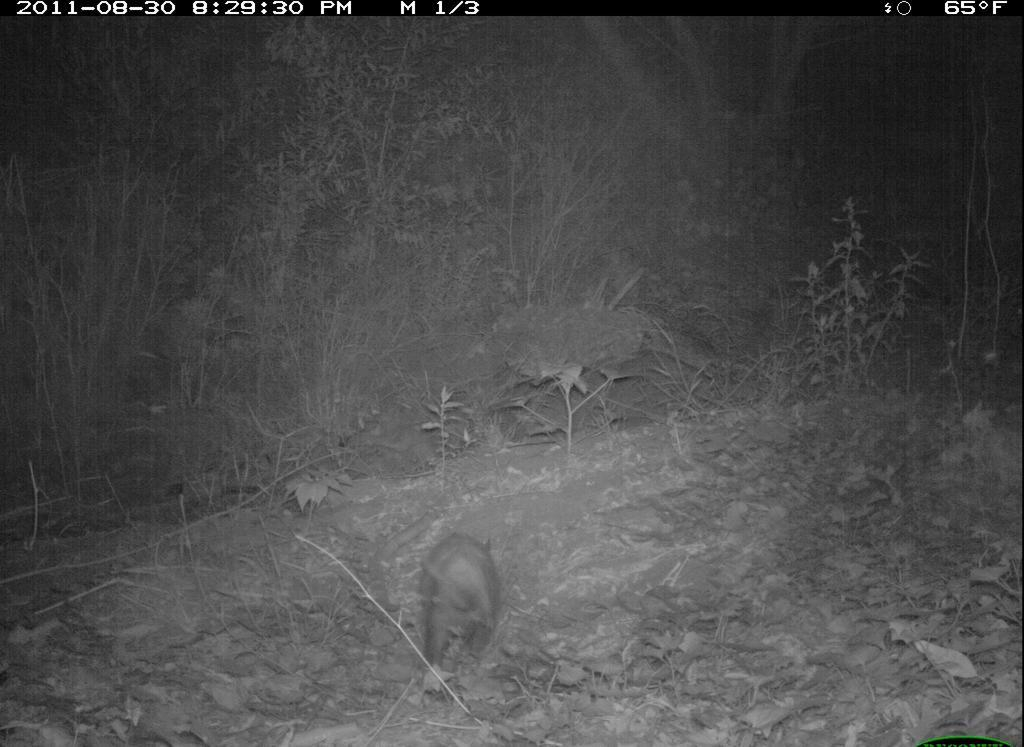opossum: (402, 521, 520, 689)
